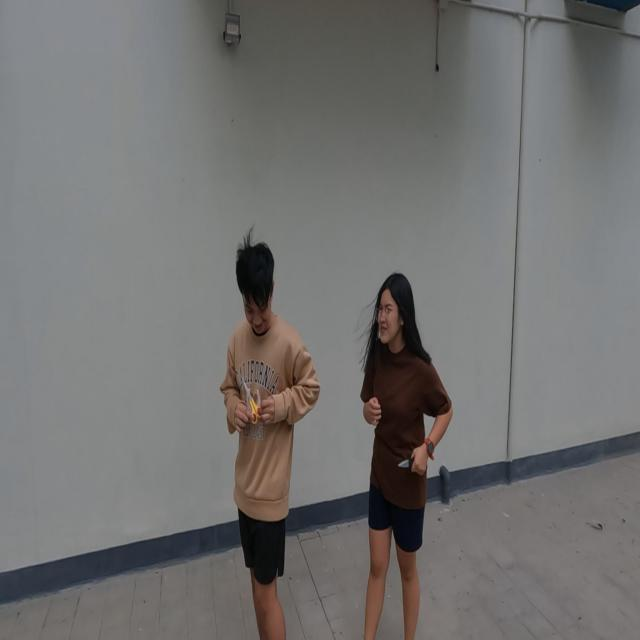scissor: (241, 374, 264, 426)
